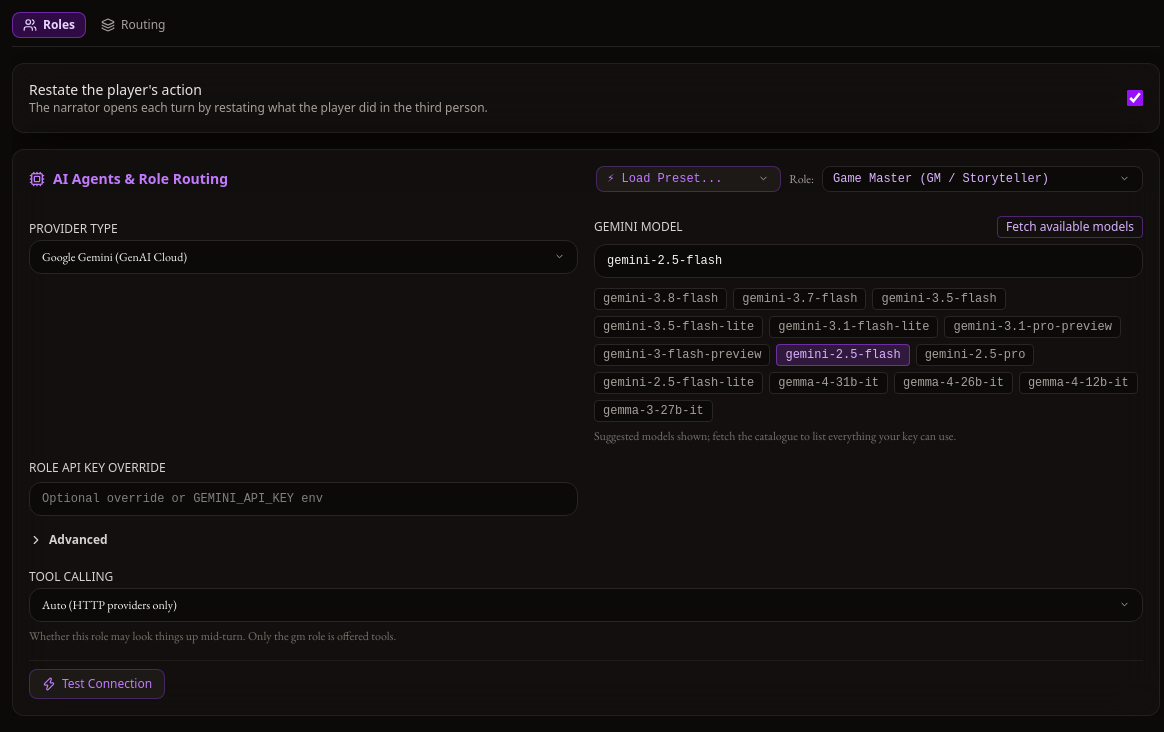
Scenario: AgentsPanel › switches to Routing tab and displays role rows
Click the tab "Routing": (133, 25) x1=90 y1=12 x2=176 y2=38
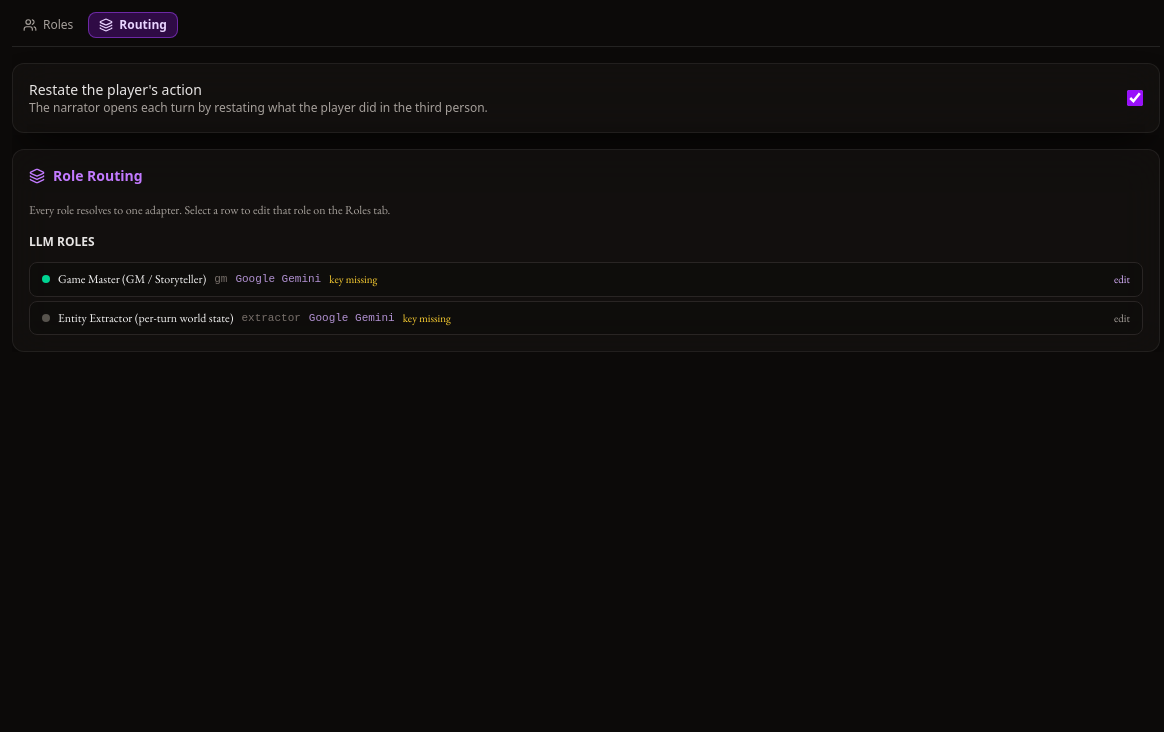
Expected: the heading "Role Routing" is shown, x1=29 y1=166 x2=143 y2=185
Expected: the text "Every role resolves to one adapter. Select a row to edit that role on the Roles tab." is shown, x1=29 y1=202 x2=390 y2=218
